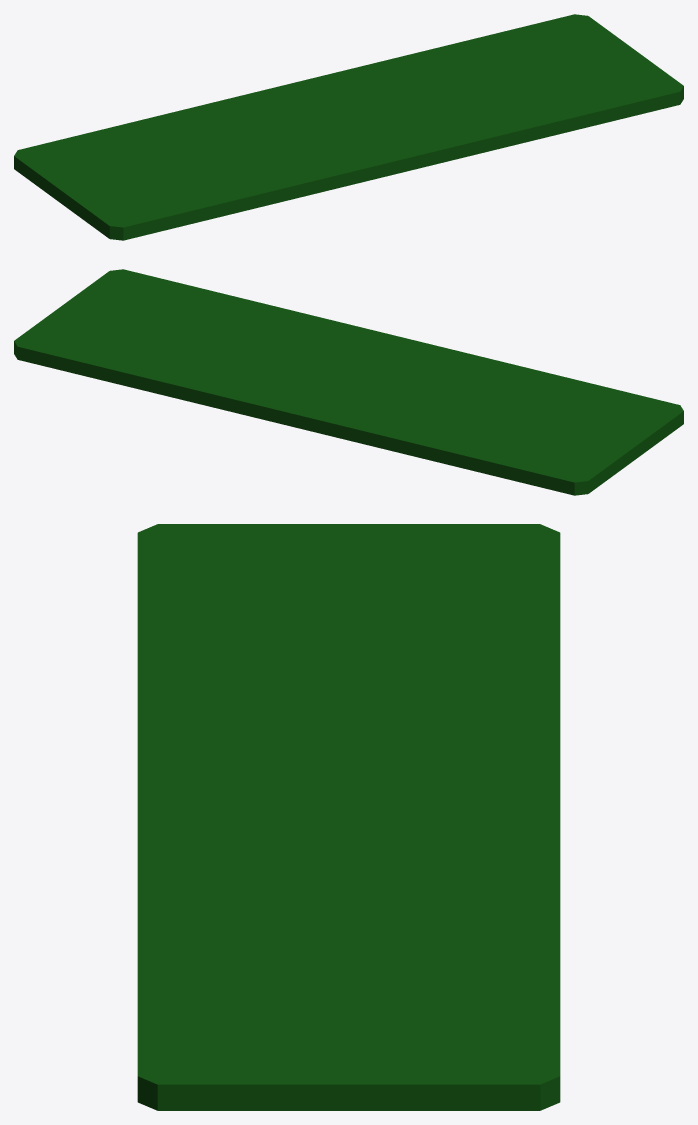
Rendered from Grass_01.FBX.
3 views of the same model, one above another, from view 1: azimuth 30°, elevation 25°; view 2: azimuth 150°, elevation 25°; view 3: azimuth 270°, elevation 25° (orthographic). The views are drawn at different scales.
Parts seen in each view (by area): view 1: Grass_01; view 2: Grass_01; view 3: Grass_01.
Boxes of the visible parts, left/top/right/bottom form: Grass_01: left=14, top=14, right=683, bottom=240; Grass_01: left=14, top=269, right=683, bottom=495; Grass_01: left=137, top=524, right=560, bottom=1110.
Bounding box in the file's own units: 40.12 × 0.8752 × 12.79.
